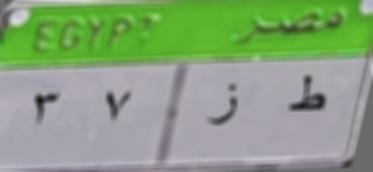3: (26, 88, 67, 137)
7: (100, 82, 135, 132)
Taa: (283, 72, 330, 119)
zay: (202, 78, 245, 134)
